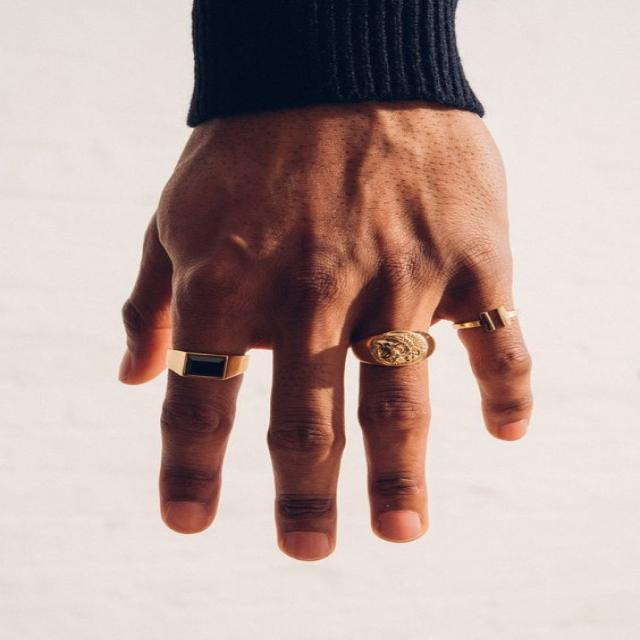Fingernail: (284, 532, 329, 560), (379, 511, 421, 540), (166, 503, 206, 533), (499, 421, 526, 441), (118, 352, 132, 380)
